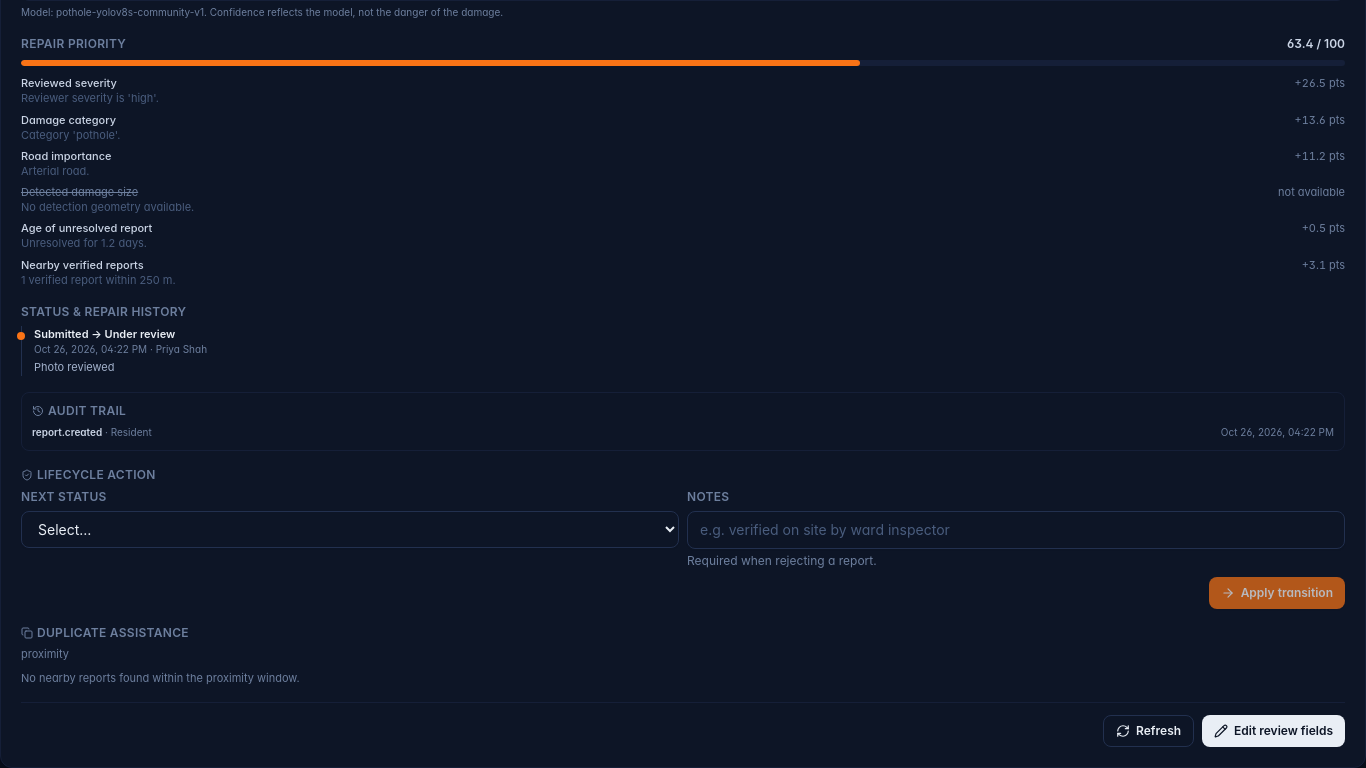
Test: ReportDetailPanel › lets a reviewer transition status and reports the result
This screenshot has width=1366, height=768.
(page scrolled)
Select "Verified" in the dropdown labelled "Next status" at x=350, y=529, box top-left (21, 511), bottom-right (679, 548)
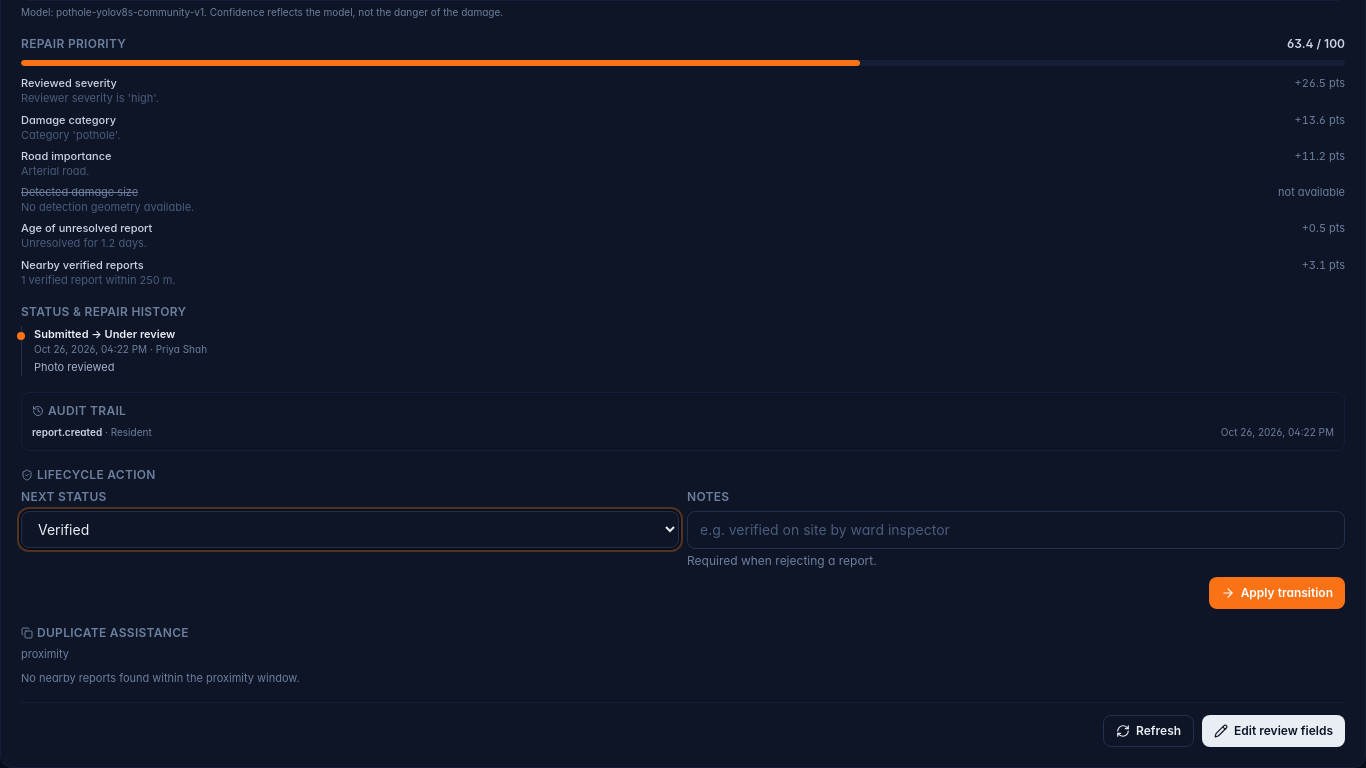
Click the button "Apply transition" at x=1277, y=593, box top-left (1209, 577), bottom-right (1345, 609)
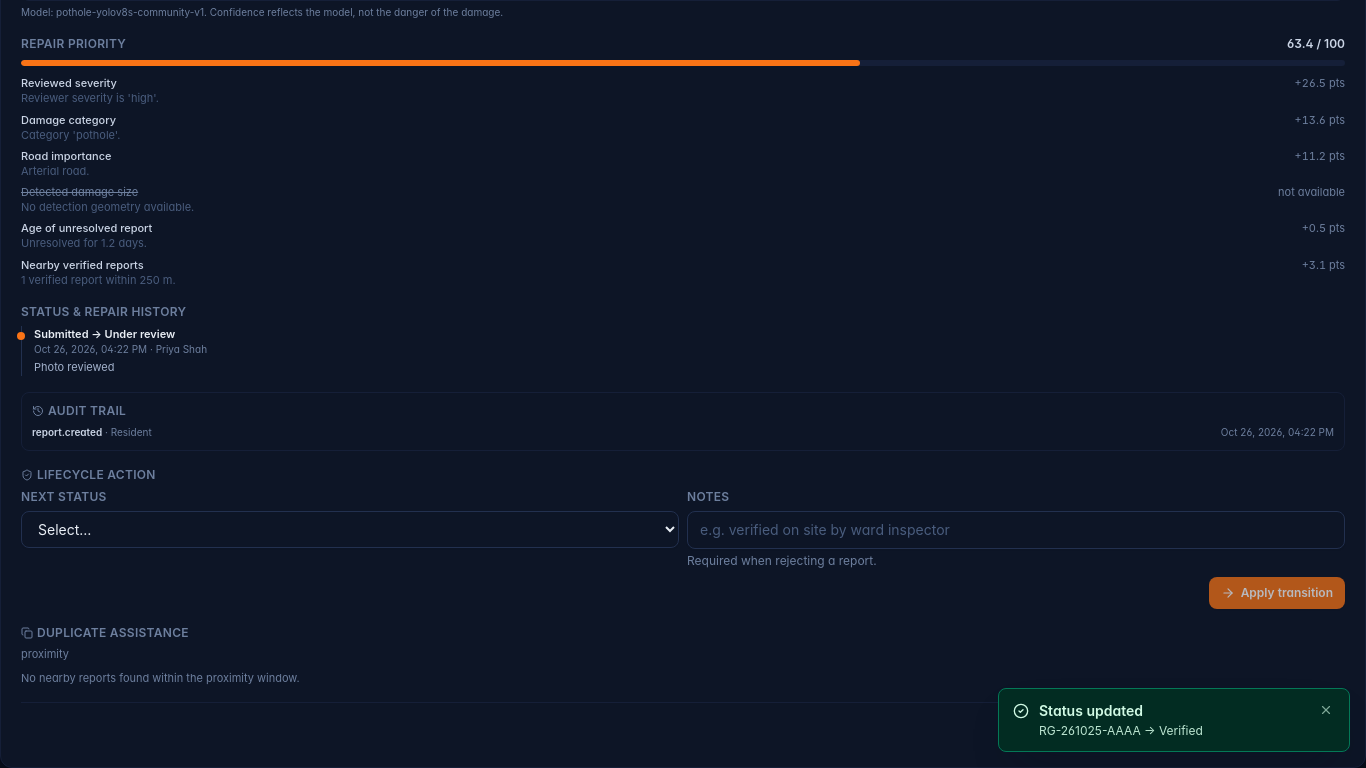
Result: the text "Status updated" is shown at top-left (1039, 702), bottom-right (1143, 719)
